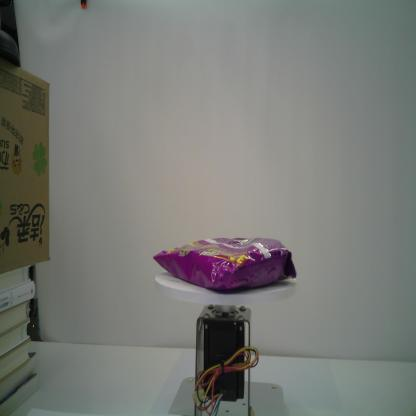Instant Noodles: (152, 236, 297, 293)
